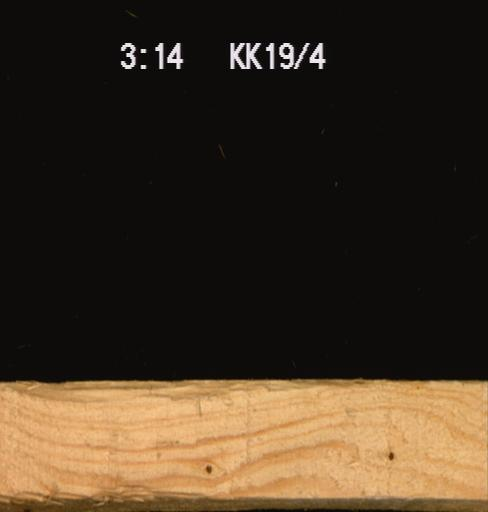small_knot: (203, 461, 213, 474), (385, 448, 395, 461)
